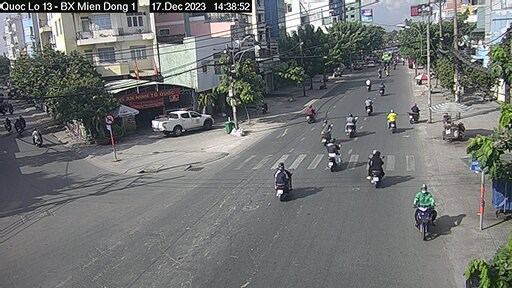car: (150, 110, 214, 136)
motorbike: (410, 186, 437, 235), (269, 161, 298, 200), (375, 110, 406, 140), (328, 145, 350, 176), (311, 119, 335, 145), (366, 152, 379, 181), (342, 114, 358, 137), (305, 100, 317, 120), (367, 97, 379, 114), (378, 82, 387, 96), (364, 75, 373, 89)
